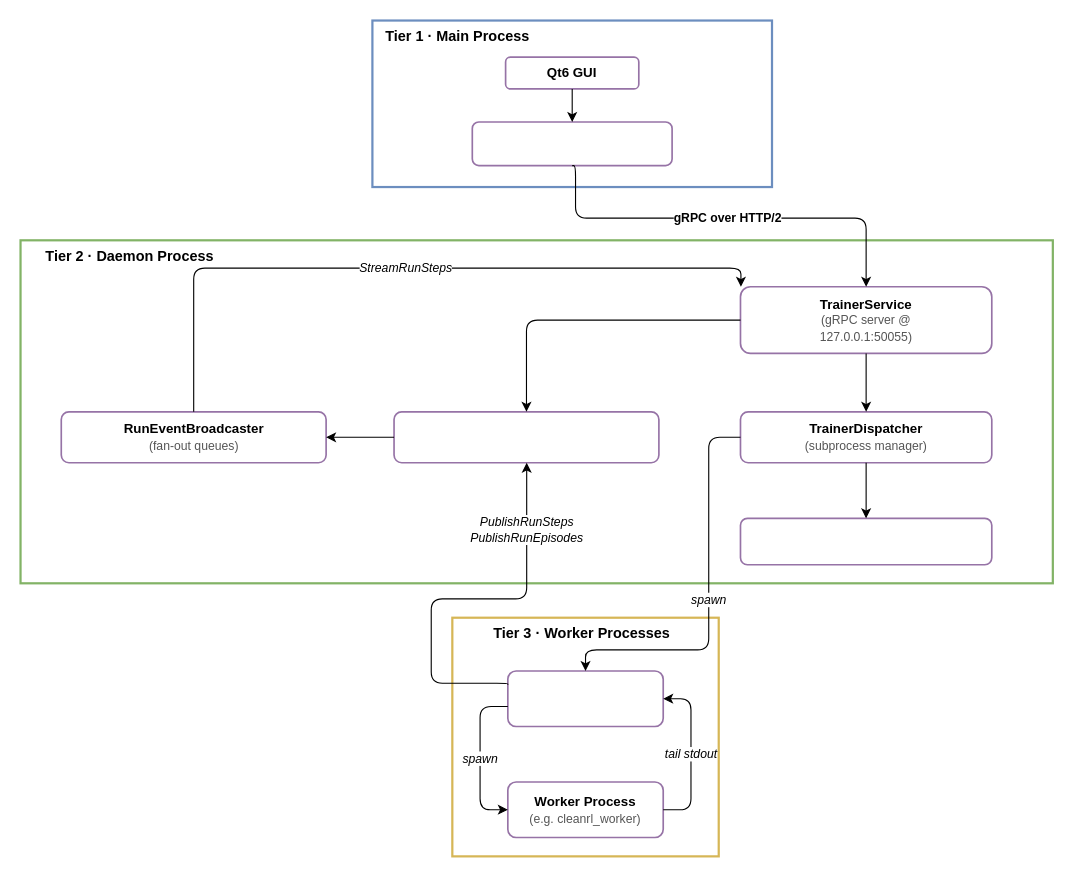
Image size: 1072x876. Some labels were removed from this diagram. The centre of each missing label's shape, as x and y in pixels:
"RunRegistry (SQLite state store)" belongs at point 865,541.
"RunTelemetryBroadcaster (step/episode fan-out)" belongs at point 526,436.
"Telemetry Proxy (sidecar)" belongs at point 585,698.
"TrainerClient (gRPC async client)" belongs at point 571,143.
